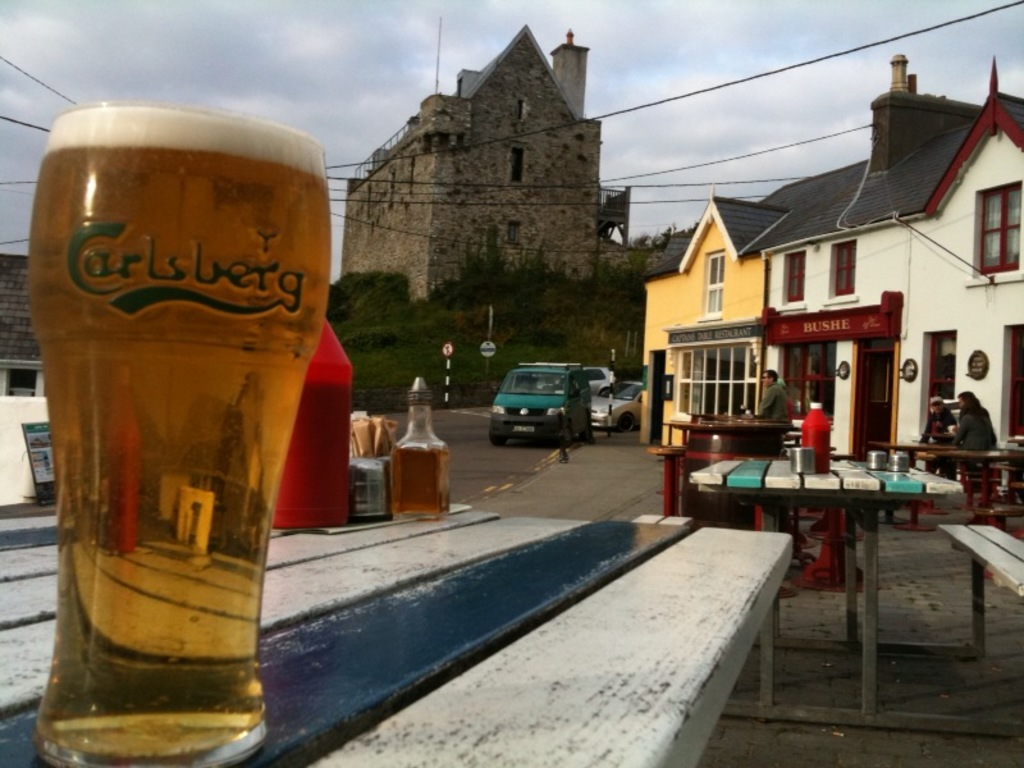Beer: (26, 97, 327, 766), (390, 382, 459, 512)
